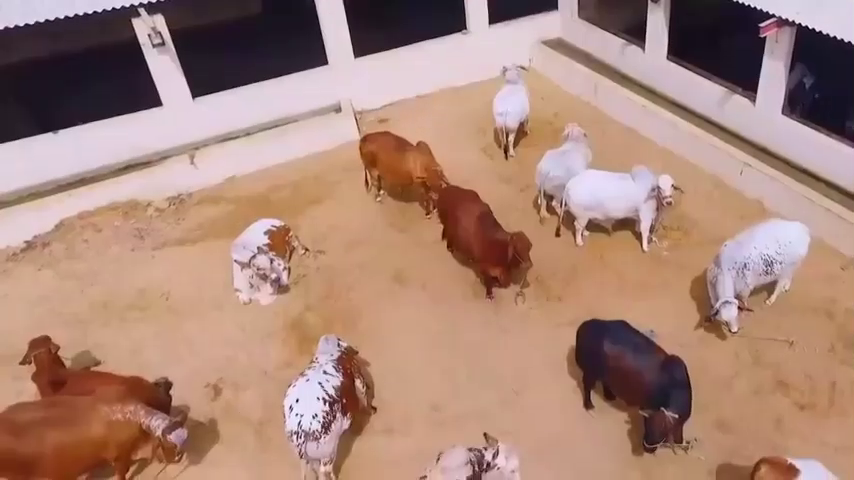bo: (568, 303, 707, 463), (4, 394, 194, 474), (273, 326, 374, 475), (430, 171, 536, 311), (24, 325, 181, 414), (698, 217, 806, 338), (557, 162, 680, 255), (346, 123, 445, 216), (225, 211, 312, 305), (527, 123, 604, 203), (424, 435, 547, 480), (489, 64, 527, 165), (748, 444, 836, 477)
